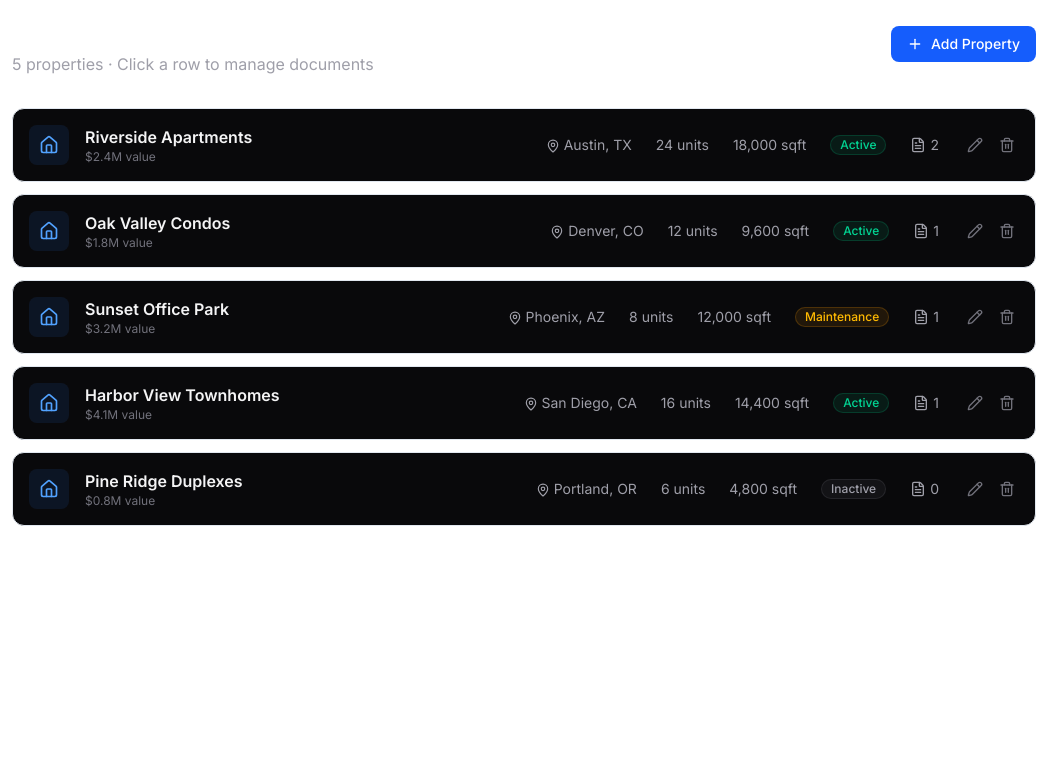
Test: PropertiesPage (Sprint 5) › expands a property row to show documents panel
This screenshot has width=1048, height=780.
# Click on Riverside Apartments to expand
Click the text "Riverside Apartments".
click(169, 137)  # box [85,125,252,149]
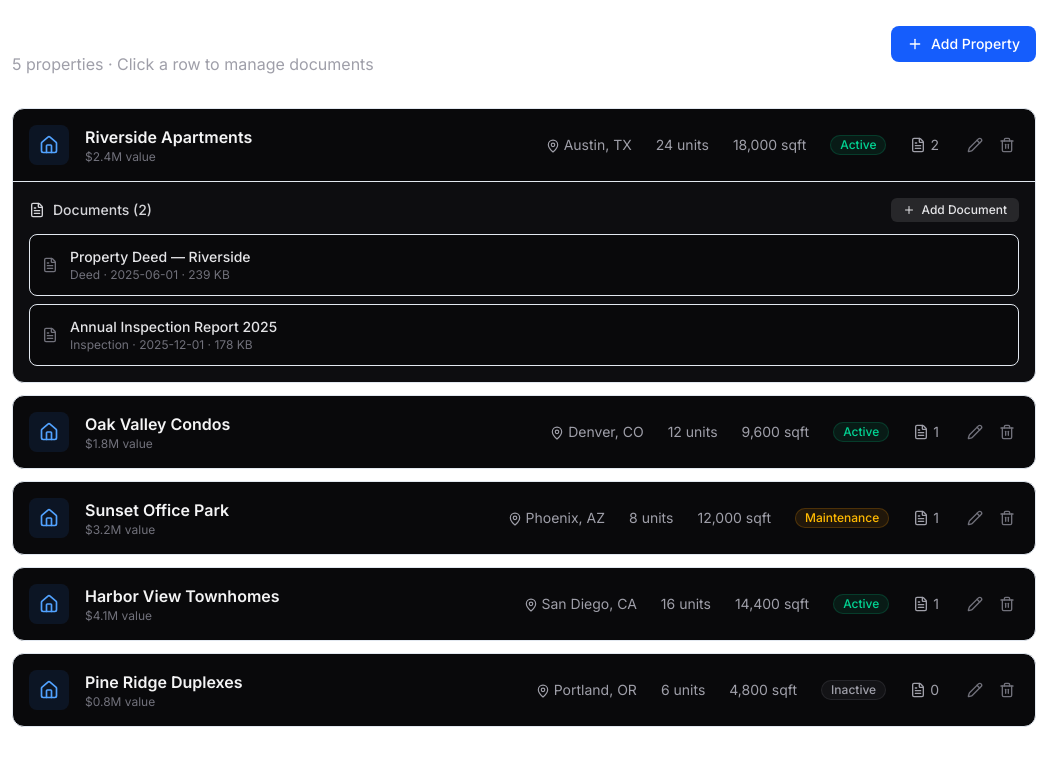
expect the text "Property Deed — Riverside" is shown: met, box [70,247,251,267]
expect the text "Annual Inspection Report 2025" is shown: met, box [70,317,277,337]
